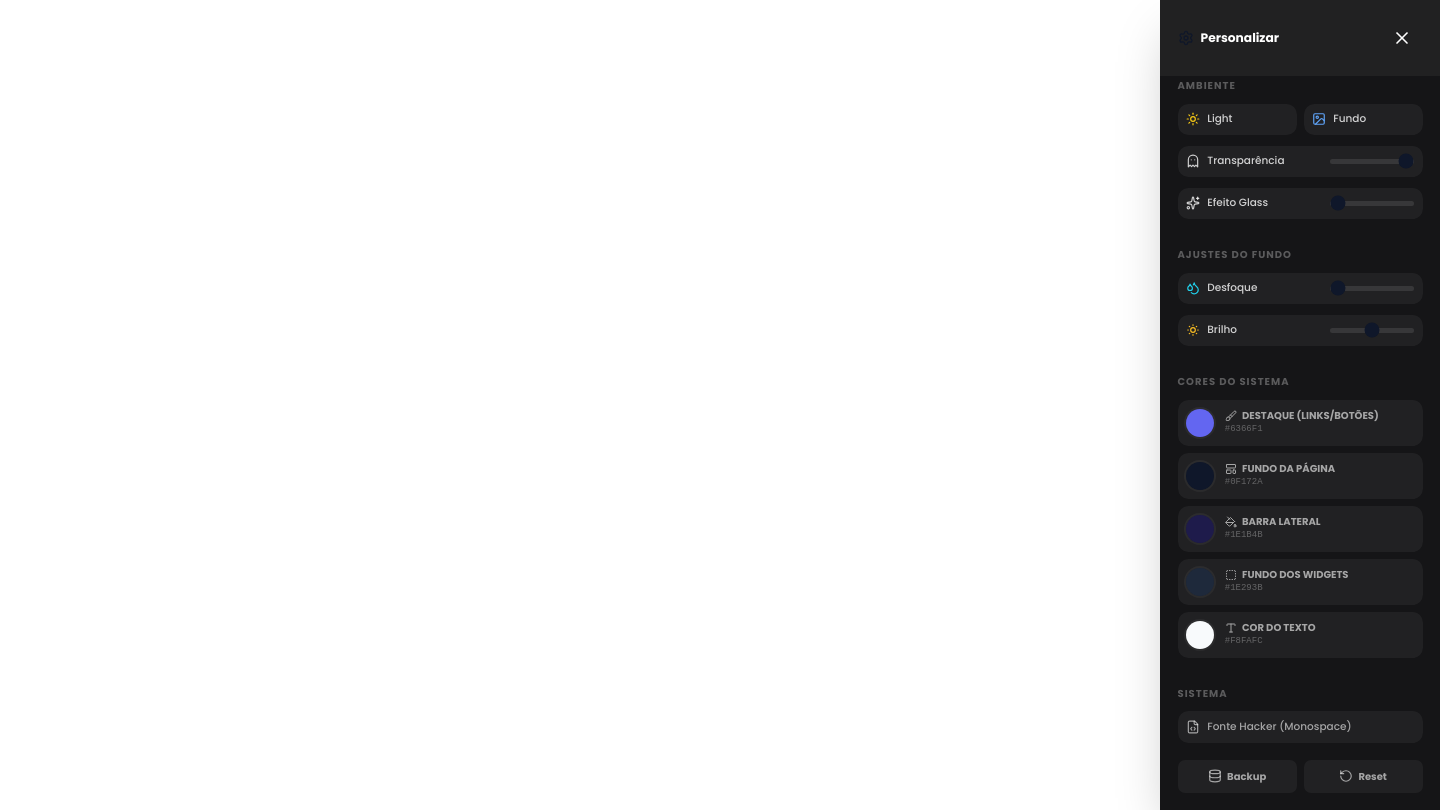
Test case: reset › pede confirmação dentro do app, sem usar window.confirm
Later steps or results of the test are not shown.
(page scrolled)
Click the button "Reset" at (1363, 776), box [1304,760,1422,792]
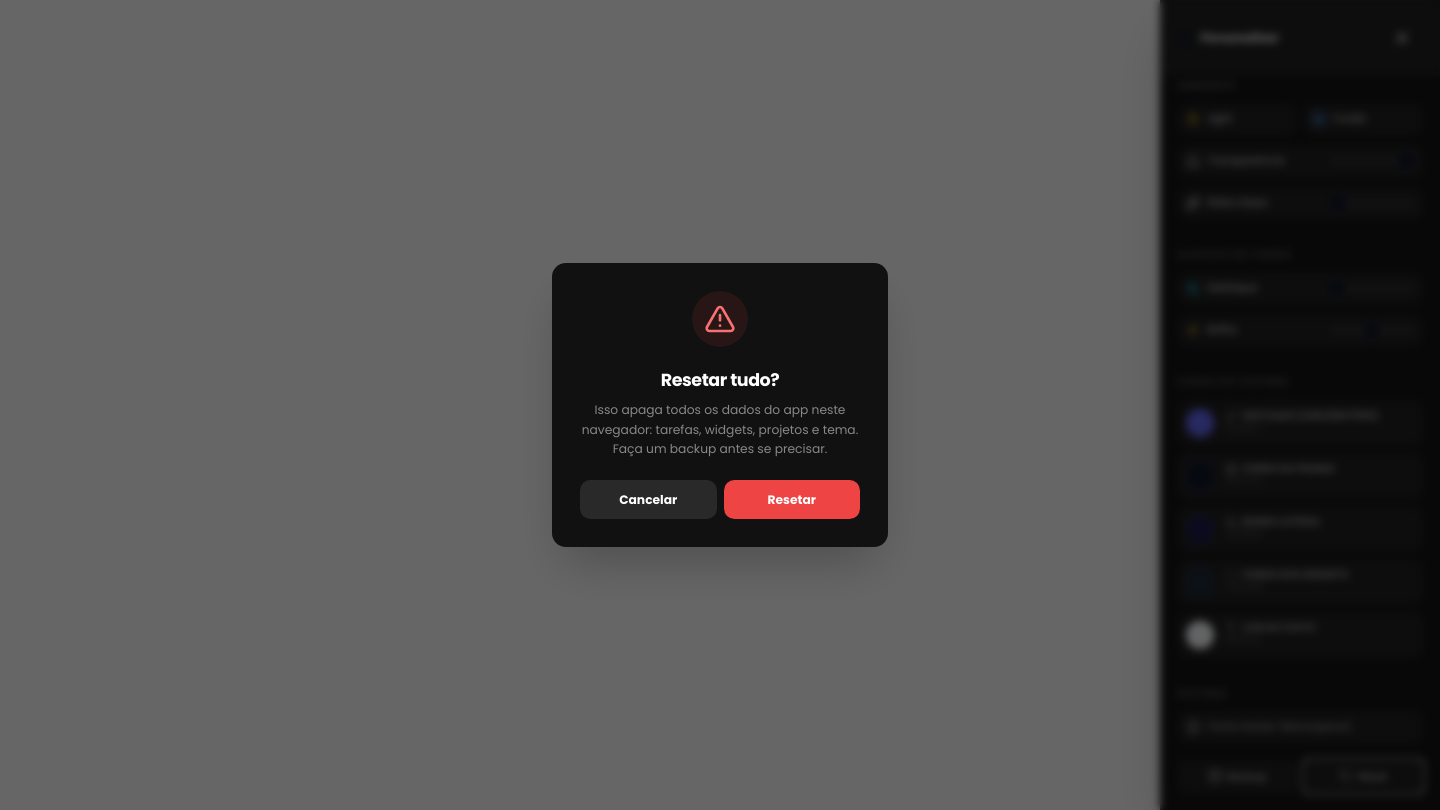
Result: the heading "Resetar tudo?" is shown at [661,368,779,392]
